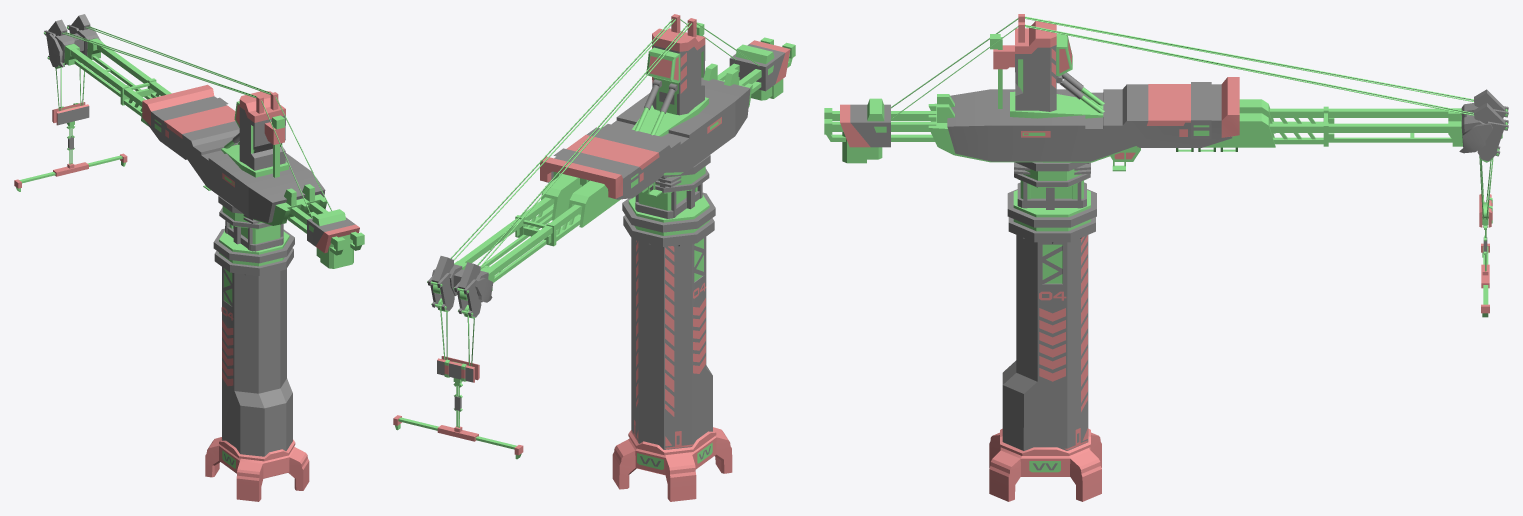
File: S_Envi_Olgk_Crane_01_Low.gltf
3 views of the same model, side by side, from view 1: azimuth 30°, elevation 25°; view 2: azimuth 150°, elevation 25°; view 3: azimuth 270°, elevation 25° (orthographic). The views are drawn at different scales.
Visible parts, largest first — view 1: S_Envi_Olgk_Crane_01_Low; view 2: S_Envi_Olgk_Crane_01_Low; view 3: S_Envi_Olgk_Crane_01_Low.
Part boxes in pixels (x1,y1,x2,y2): S_Envi_Olgk_Crane_01_Low: (14,14,364,501); S_Envi_Olgk_Crane_01_Low: (393,14,795,501); S_Envi_Olgk_Crane_01_Low: (824,14,1508,501).
Bounding box in the file's own units: 25.51 × 87.22 × 117.
